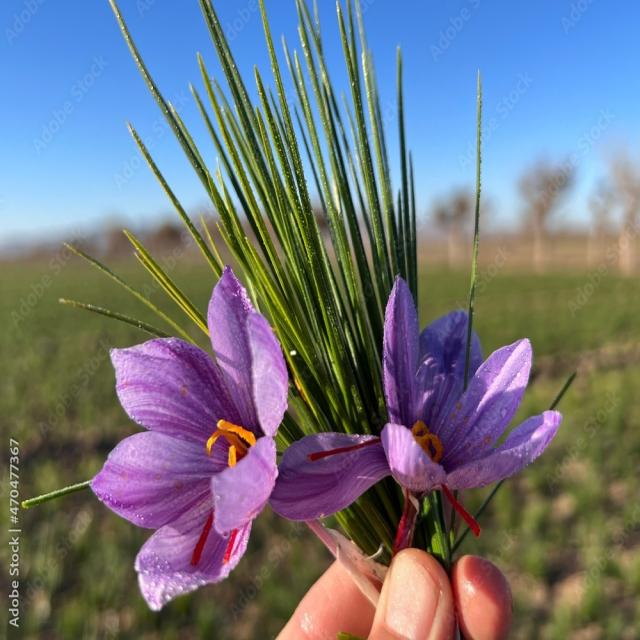saffron open: (270, 278, 561, 552), (90, 267, 288, 610)
